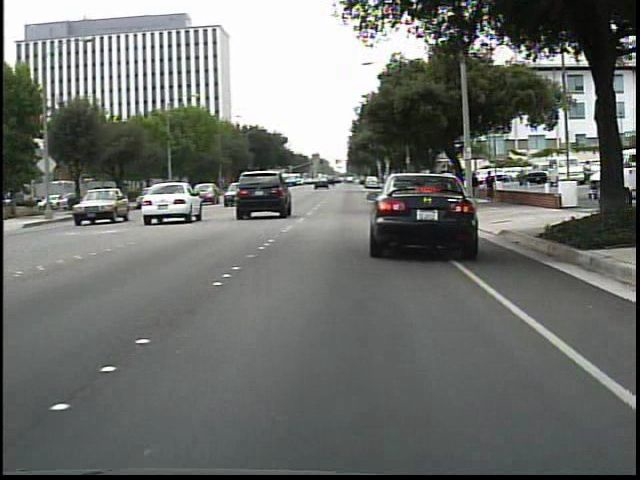person: (483, 170, 497, 204), (468, 171, 483, 202)
